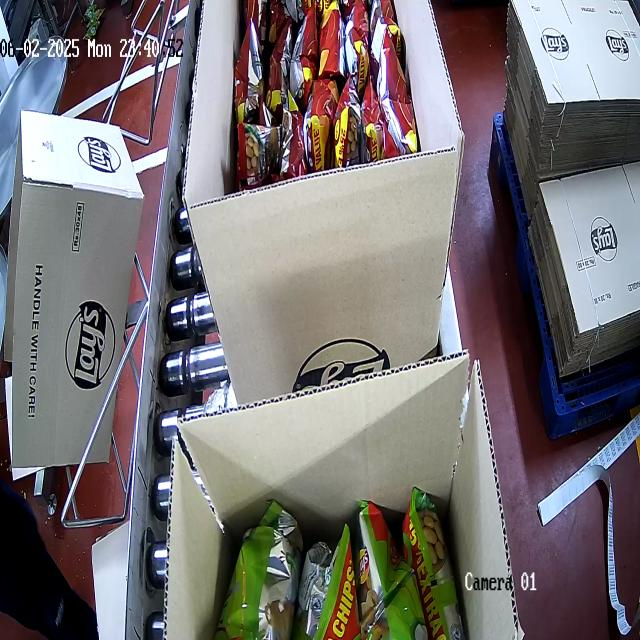MASALA: (231, 0, 412, 181)
YOGURT_HERB: (216, 485, 457, 640)
